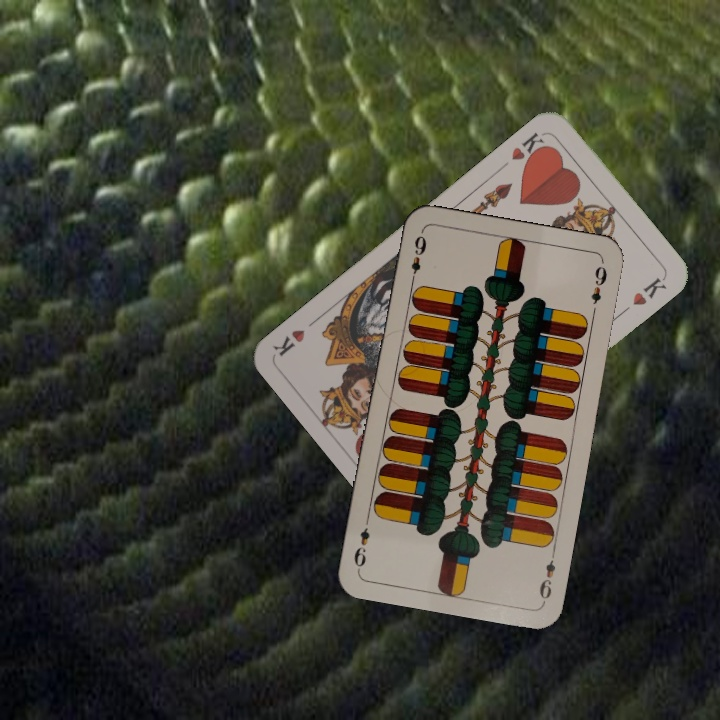E9: (406, 228, 429, 287), (535, 546, 558, 605)
HK: (507, 128, 551, 168)
